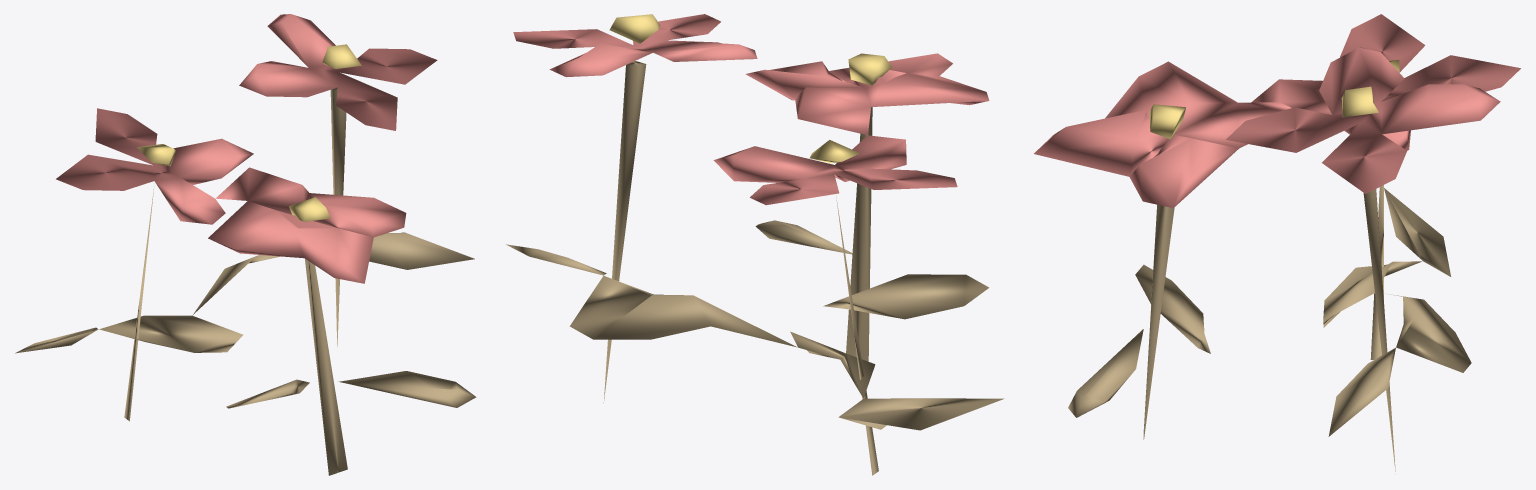
File: flower_4_autumn_low.glb
3 renders of one model, left to right at view 1: azimuth 30°, elevation 25°; view 2: azimuth 150°, elevation 25°; view 3: azimuth 270°, elevation 25°, orthographic. The views are drawn at different scales.
Size of the model in its own units: 0.5021 by 0.3684 by 0.4064.
